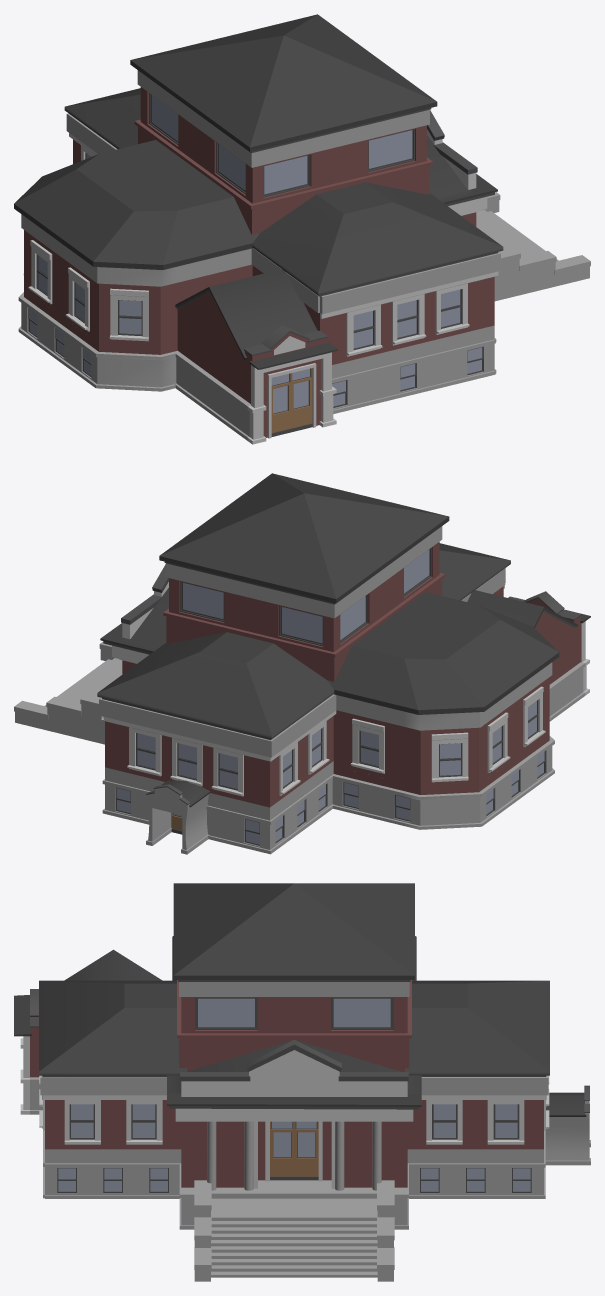
The model's file is asset.glb.
3 renders of one model, top to bottom at view 1: azimuth 30°, elevation 25°; view 2: azimuth 150°, elevation 25°; view 3: azimuth 270°, elevation 25°, orthographic. The views are drawn at different scales.
Visible parts, largest first — view 1: polySurface426; view 2: polySurface426; view 3: polySurface426.
Boxes of the visible parts, x1,y1,x2,y2 form: polySurface426: (14, 14, 590, 444); polySurface426: (14, 473, 590, 854); polySurface426: (14, 883, 590, 1281).
Bounding box in the file's own units: 26.61 × 14.04 × 27.01.
